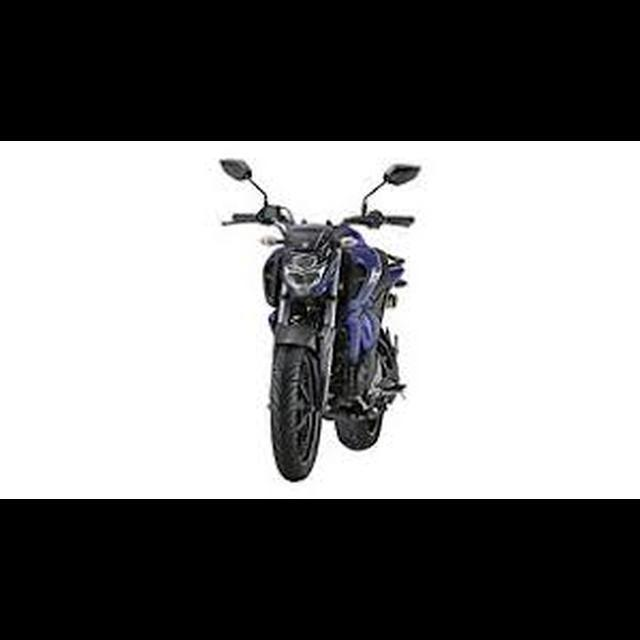motorcycle: (217, 153, 423, 483)
